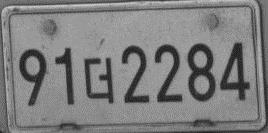1: (49, 45, 82, 105)
2: (120, 44, 151, 104), (153, 44, 184, 103)
4: (218, 42, 251, 101)
8: (187, 43, 217, 101)
9: (18, 48, 48, 108)
더: (82, 57, 116, 104)
